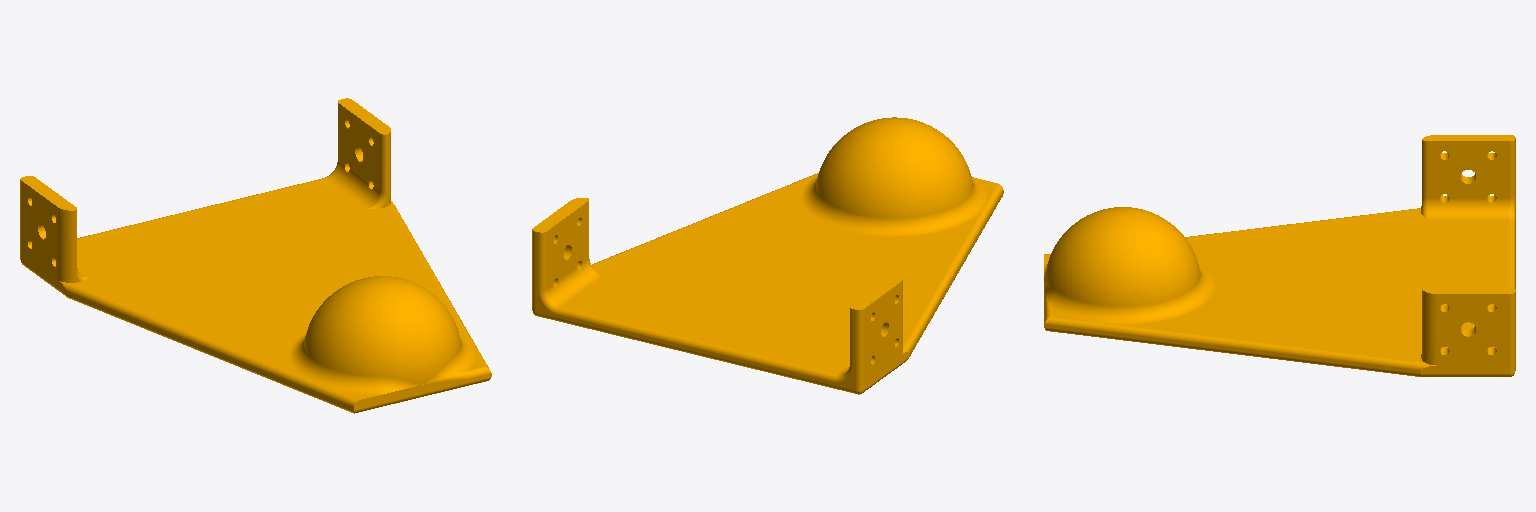
The robot description file, URDF, robot "index":
<?xml version="1.0"?>
<robot name="index">
	<material name="orange">
		<color rgba="1 0.5 0 1"/>
	</material>
	<material name="gold">
		<color rgba="1 0.7 0 1"/>
	</material>
	<material name="coral">
		<color rgba="1 0.5 0.2 1"/>
	</material>

	<link name="base_link">
		<visual>
			<geometry>
				<mesh filename="package://udm_urdf/mesh/urdf_mesh_example.stl"/>
			</geometry>
			<material name="gold"/>
		</visual>
	</link>
</robot>

--- Facts derived from the render (not from the file) ---
The picture shows the robot from 3 angles, left to right: view 1: azimuth 30°, elevation 25°; view 2: azimuth 150°, elevation 25°; view 3: azimuth 270°, elevation 25°; orthographic projection.
Robot: index — 1 links, 0 joints (none); root link base_link; default pose: all joints at 0.
Links seen in each view (by area): view 1: base_link; view 2: base_link; view 3: base_link.
Boxes of the visible links, left/top/right/bottom form: base_link: left=20, top=98, right=491, bottom=413; base_link: left=532, top=117, right=1003, bottom=394; base_link: left=1044, top=135, right=1515, bottom=376.
Bounding box of the posed robot: 0.12 × 0.15 × 0.03 m (x, y, z).
1 mesh visuals loaded from 1 distinct referenced files (1 binary STL).